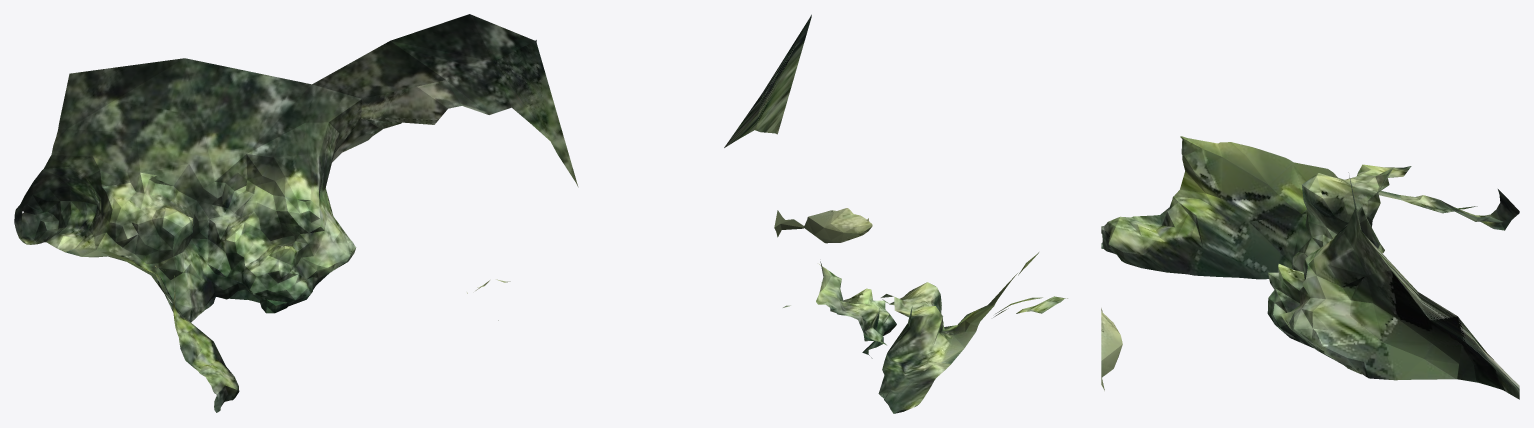
The picture shows the model from 3 angles, left to right: view 1: azimuth 30°, elevation 25°; view 2: azimuth 150°, elevation 25°; view 3: azimuth 270°, elevation 25°; orthographic projection. The views are drawn at different scales.
Size of the model in its own units: 26.11 by 20.34 by 26.11.
3 materials, 3 textured.
